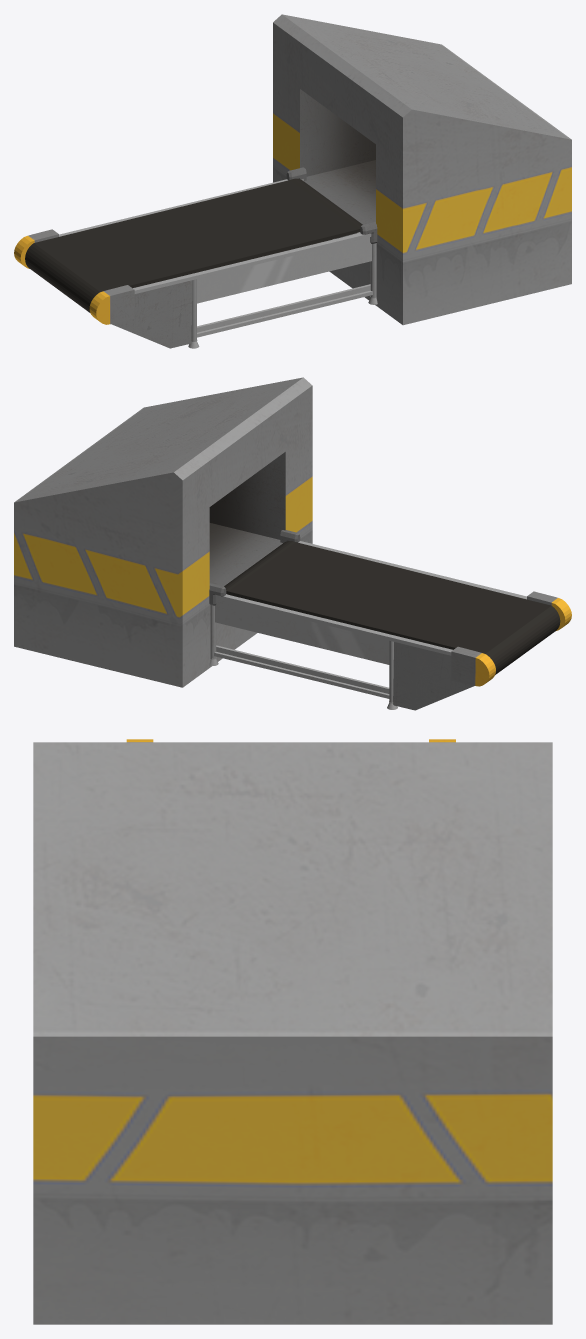
Rendered from SM_DropoffSystem.fbx.
The picture shows the model from 3 angles, top to bottom: view 1: azimuth 30°, elevation 25°; view 2: azimuth 150°, elevation 25°; view 3: azimuth 270°, elevation 25°; orthographic projection. The views are drawn at different scales.
Visible parts, largest first — view 1: Drop off machine, Lopende band, Lopende band support; view 2: Drop off machine, Lopende band, Lopende band support; view 3: Drop off machine.
Part boxes in pixels (x1,y1,x2,y2): Drop off machine: [273, 14, 571, 325]; Lopende band: [25, 178, 362, 312]; Lopende band support: [14, 167, 377, 348]; Drop off machine: [14, 377, 312, 687]; Lopende band: [224, 541, 560, 674]; Lopende band support: [209, 530, 571, 710]; Drop off machine: [33, 742, 552, 1324].
Bounding box in the file's own units: 7.59 × 3.42 × 3.78.
Materials: 2 (2 with a texture image).
